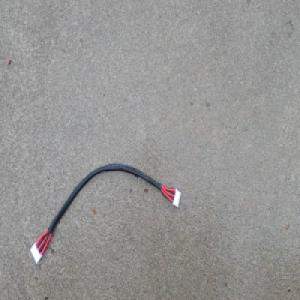Wire: (29, 162, 181, 266)
